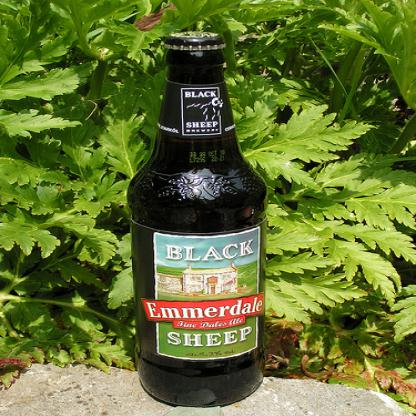bottle: (127, 30, 265, 406)
